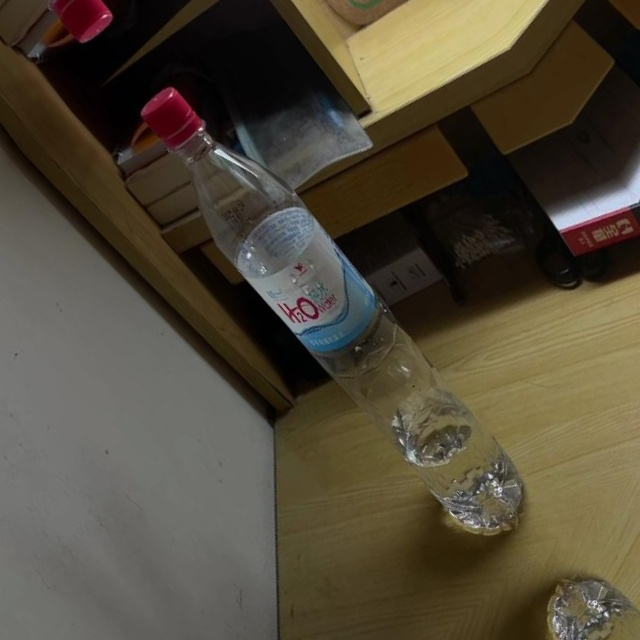Water: (115, 67, 549, 558)
